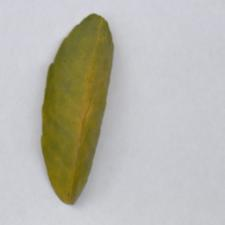Greening: (36, 11, 131, 184)
